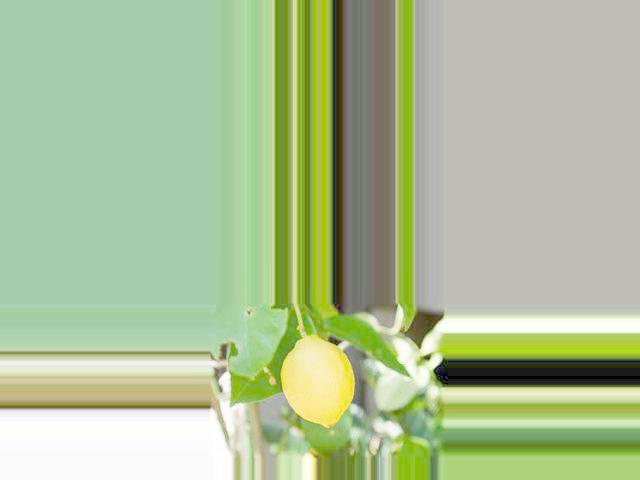lemon: (279, 329, 373, 440)
